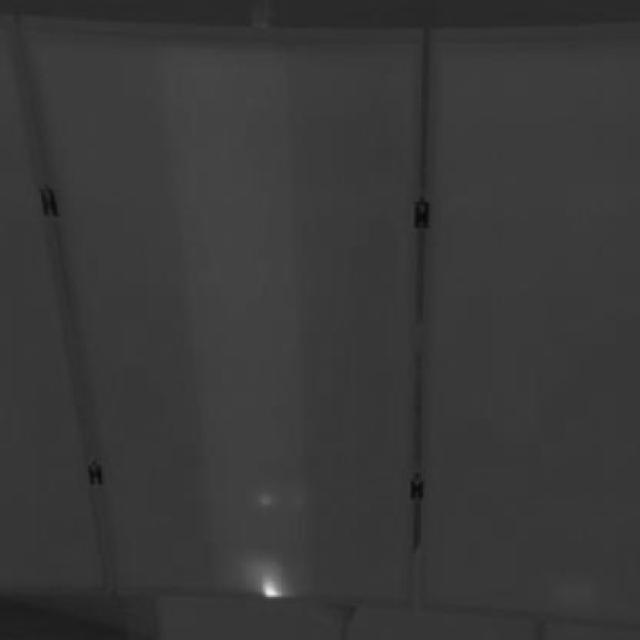hotspot: (246, 560, 286, 605)
